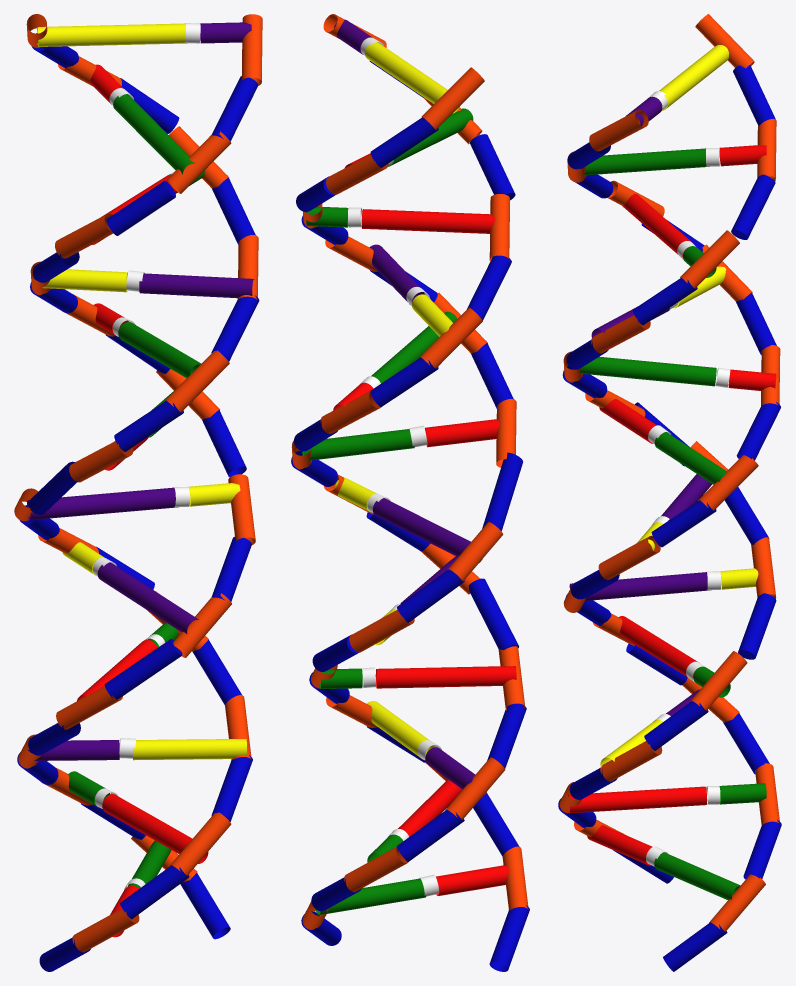
The model's file is DNA.gltf.
3 renders of one model, left to right at view 1: azimuth 30°, elevation 25°; view 2: azimuth 150°, elevation 25°; view 3: azimuth 270°, elevation 25°, orthographic. The views are drawn at different scales.
Visible parts, largest first — view 1: sketchup-download200701181601222; view 2: sketchup-download200701181601222; view 3: sketchup-download200701181601222.
Part boxes in pixels (x1,y1,x2,y2): sketchup-download200701181601222: [14, 14, 262, 971]; sketchup-download200701181601222: [291, 14, 529, 971]; sketchup-download200701181601222: [558, 14, 781, 971].
Size of the model in its own units: 0.4017 by 1.73 by 0.3967.
